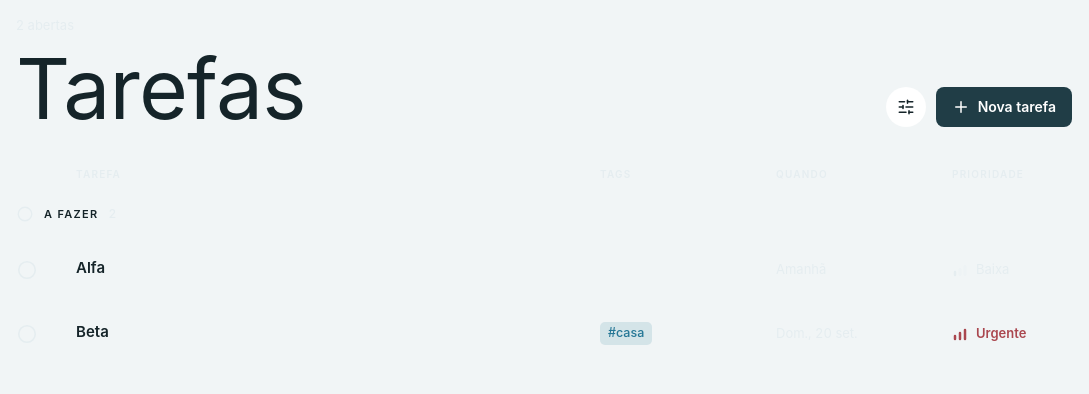
Test: ordena pela prioridade e filtra por tag
Click the heading named "Filtrar e ordenar" at [906, 107], box [886,87,926,127]
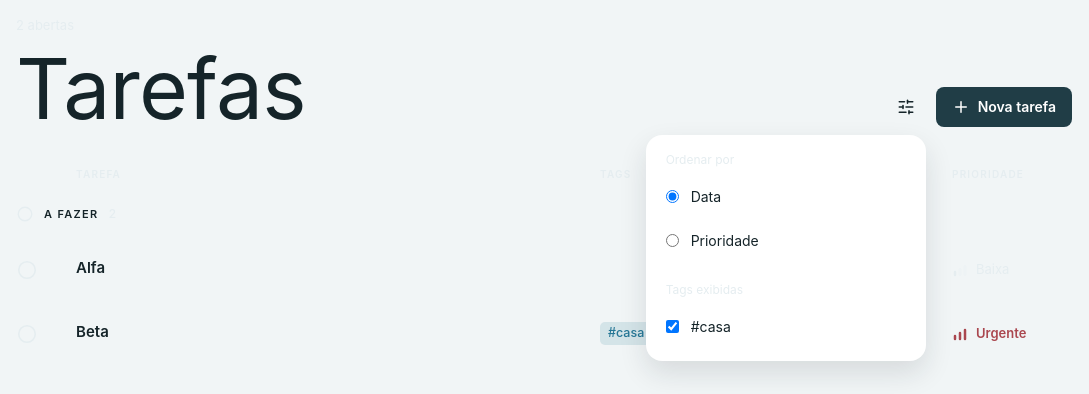
Click the radio button labelled "Prioridade" at [672, 241], box [666,234,679,247]
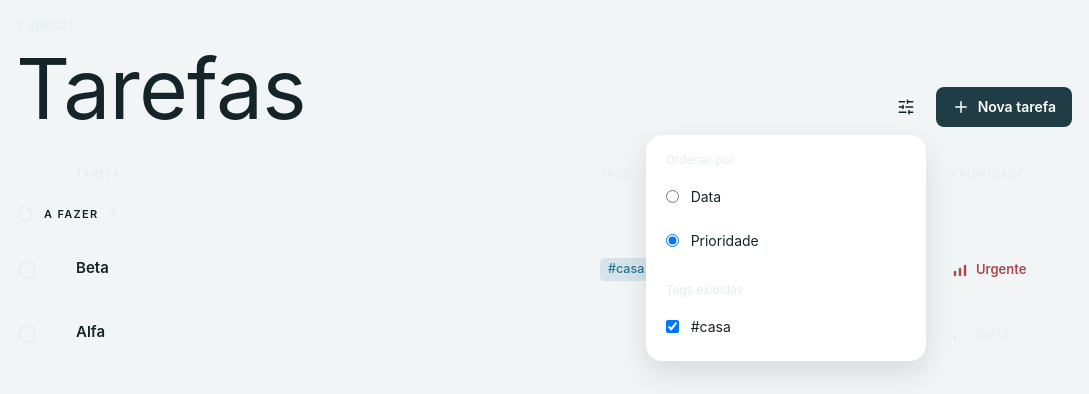
Click the checkbox labelled "#casa" at [672, 327], box [666,320,679,333]
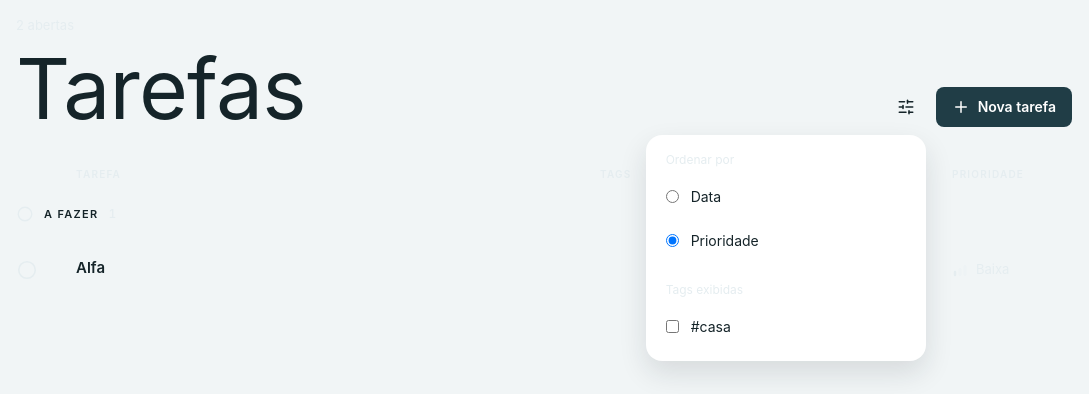
Expected: the link "Alfa" is shown, [76,258,105,277]
Expected: the link "Beta" is gone
